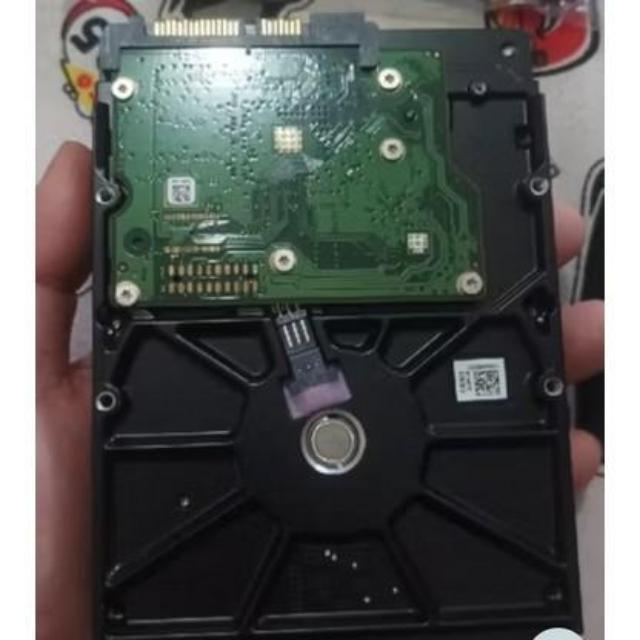DISK: (96, 16, 586, 638)
